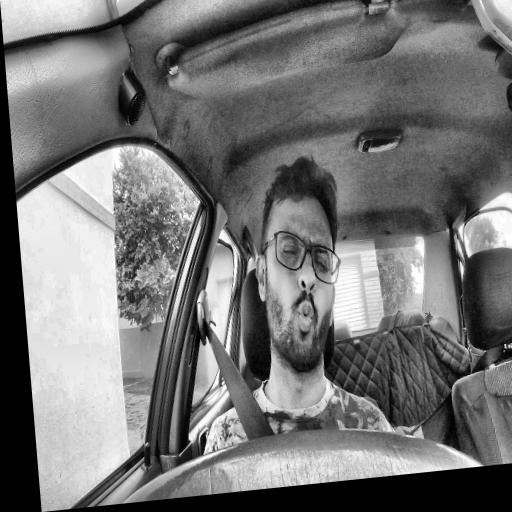drowsy: (246, 154, 350, 374)
